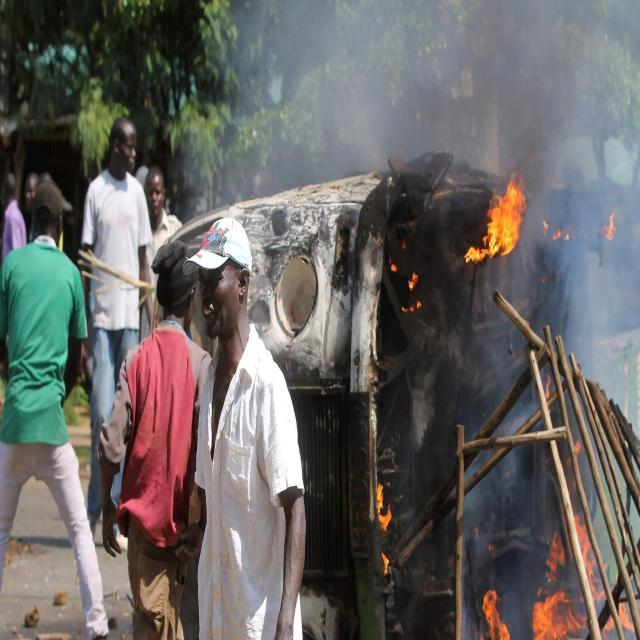Fire: (466, 184, 528, 264), (530, 593, 580, 640), (483, 590, 512, 640)
Smoke: (253, 5, 633, 156), (547, 166, 640, 364)
